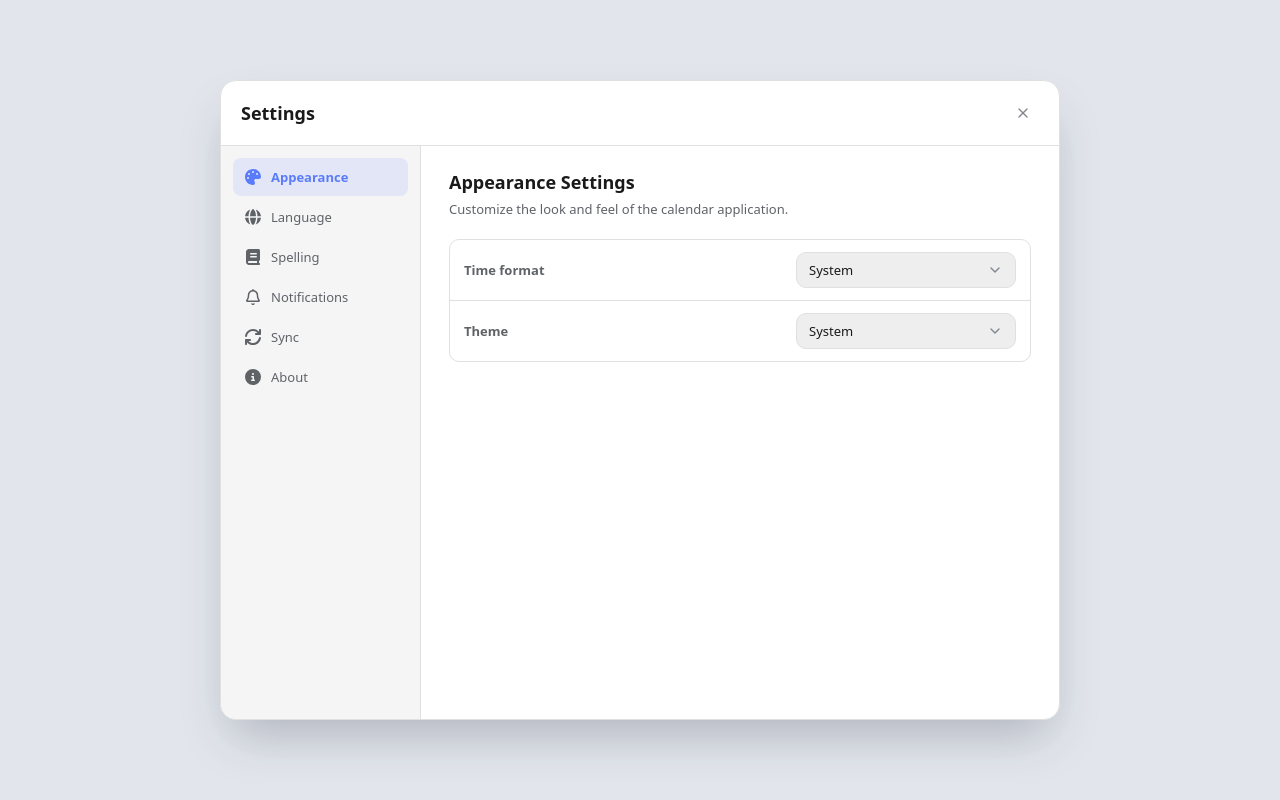
Test: settings dialog › keeps successful word removals visible when the follow-up refresh fails
The width and height of the screenshot is (1280, 800).
Click the button "Spelling": click(320, 257) top-left (233, 238), bottom-right (408, 276)
(page scrolled)
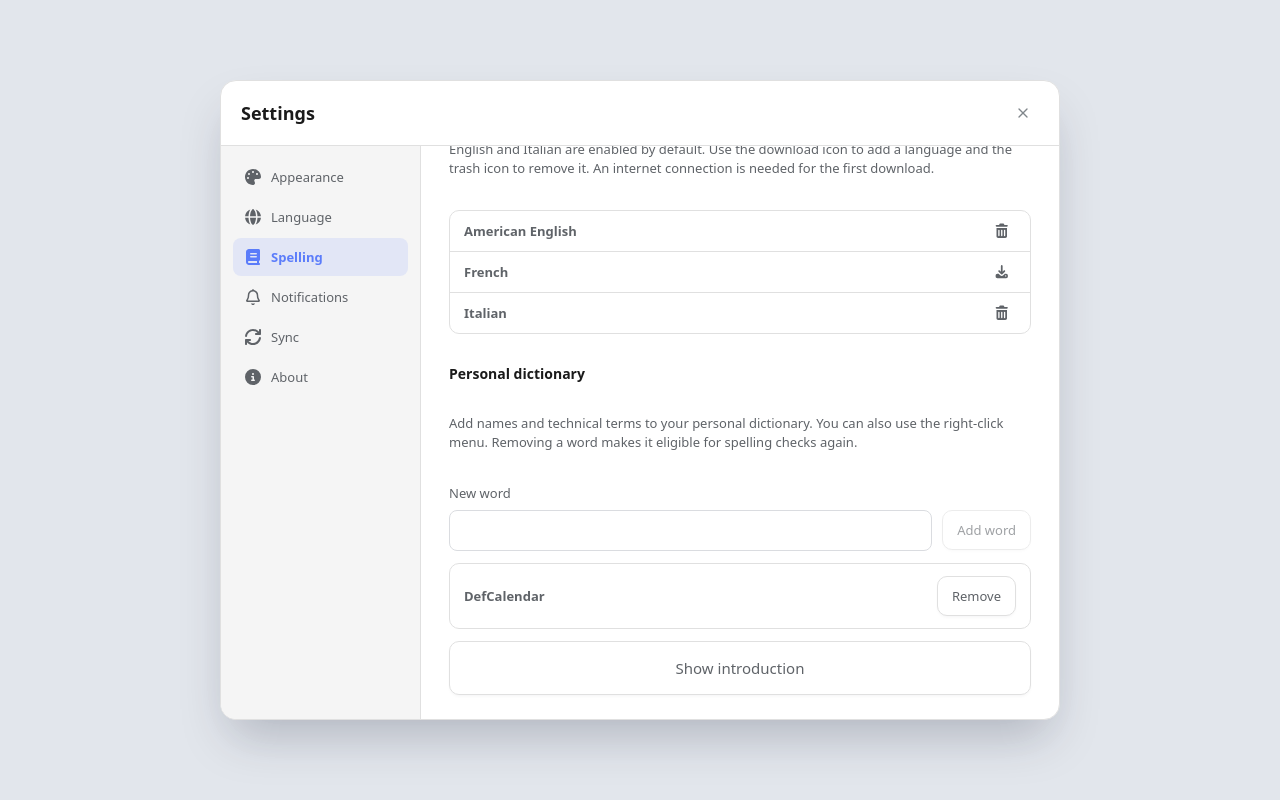
Click the button with aria-label "Remove DefCalendar from dictionary": click(976, 596) top-left (937, 576), bottom-right (1016, 616)
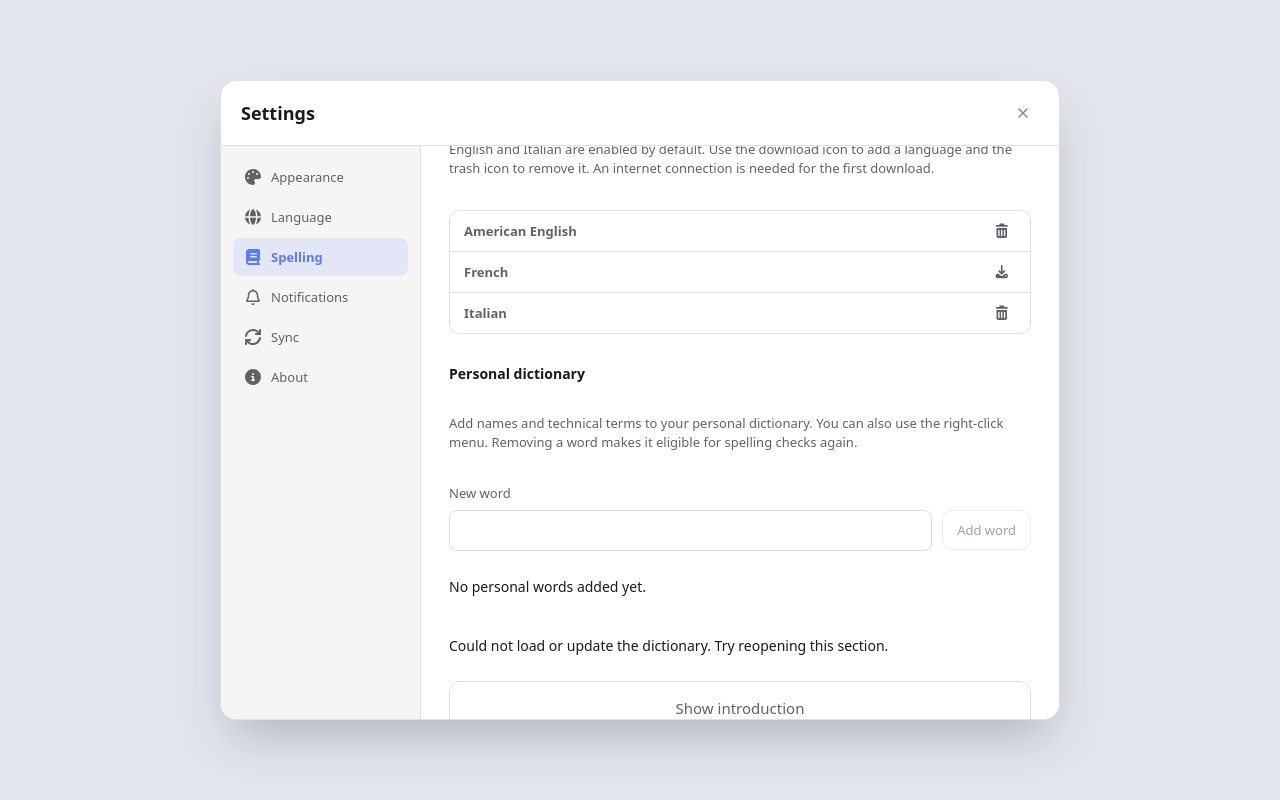
expect the message "Could not load or update the dictionary. Try reopening this section." is shown: met, box top-left (449, 636), bottom-right (888, 654)
expect the text "No personal words added yet." is shown: met, box top-left (449, 576), bottom-right (646, 596)
